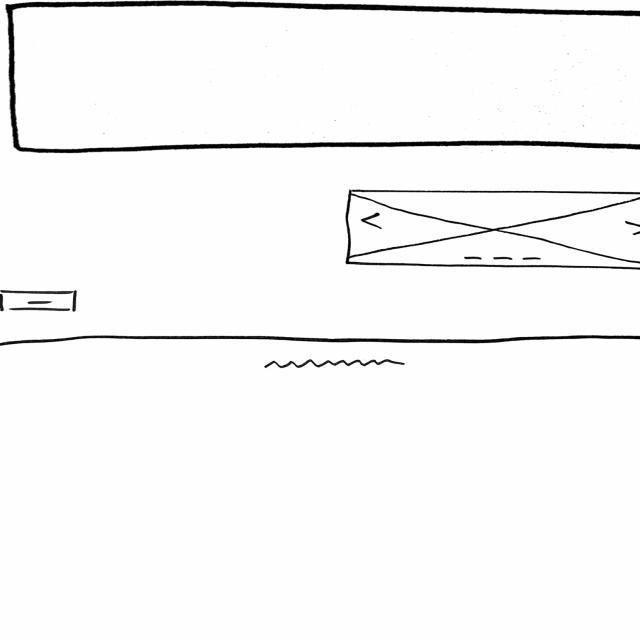container: (4, 2, 640, 151)
icon-button: (0, 288, 82, 314)
image: (340, 188, 640, 272)
text: (263, 356, 408, 371)
